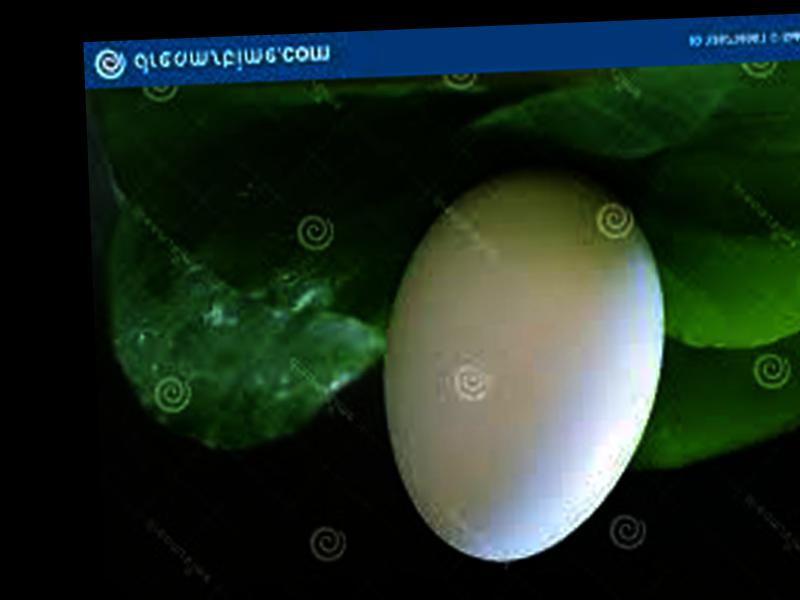Eggs: (374, 163, 674, 567)
